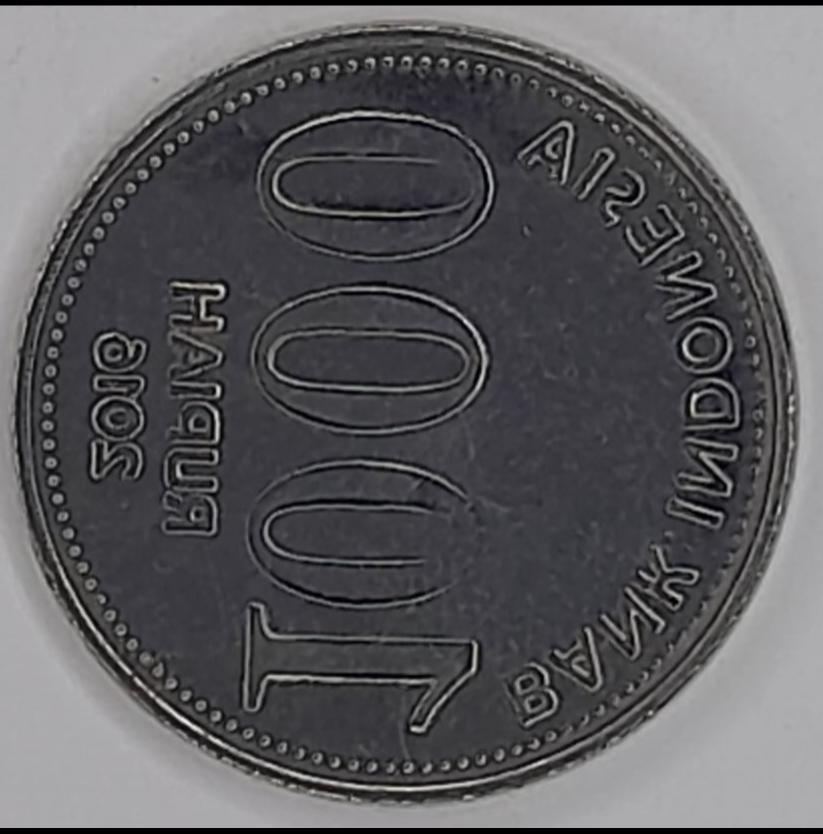coin_1000_e2016: (14, 17, 812, 834)
